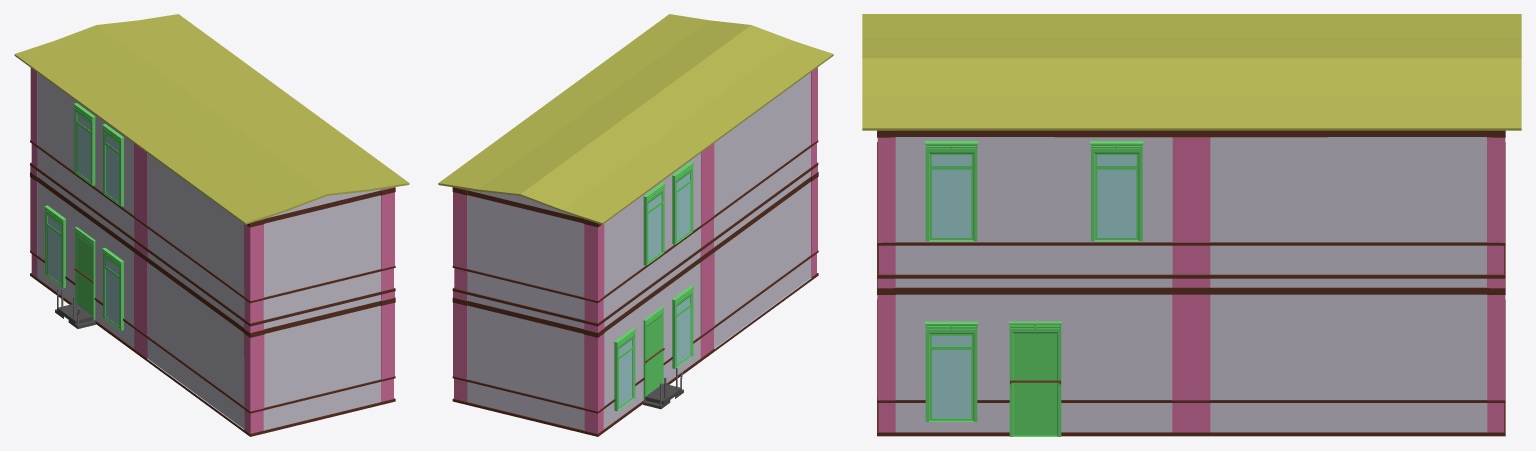
Rendered from House_structure_00_V6.fbx.
3 views of the same model, side by side, from view 1: azimuth 30°, elevation 25°; view 2: azimuth 150°, elevation 25°; view 3: azimuth 270°, elevation 25° (orthographic). The views are drawn at different scales.
Parts seen in each view (by area): view 1: House_structure_00.026; view 2: House_structure_00.026; view 3: House_structure_00.026.
Part boxes in pixels (x1,y1,x2,y2): House_structure_00.026: [14, 14, 409, 436]; House_structure_00.026: [438, 14, 833, 436]; House_structure_00.026: [862, 14, 1521, 436].
Size of the model in its own units: 530 by 670 by 1224.
